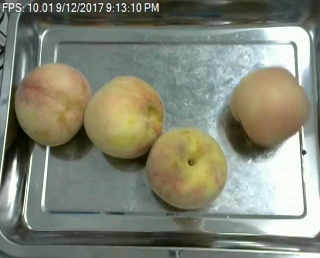Peach: (145, 126, 229, 208), (84, 75, 165, 159), (229, 67, 310, 147), (13, 62, 90, 146)
